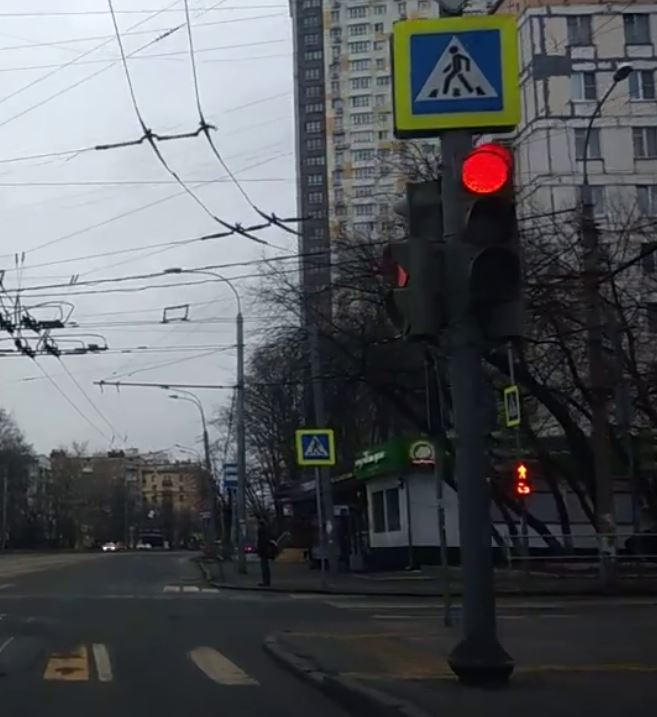Yaya Gecidi: (413, 29, 508, 117)
